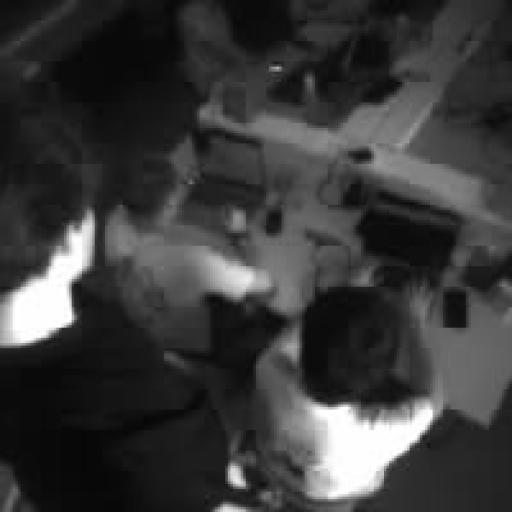human: (0, 70, 230, 511), (251, 287, 442, 509), (105, 154, 273, 355), (172, 0, 294, 97)
